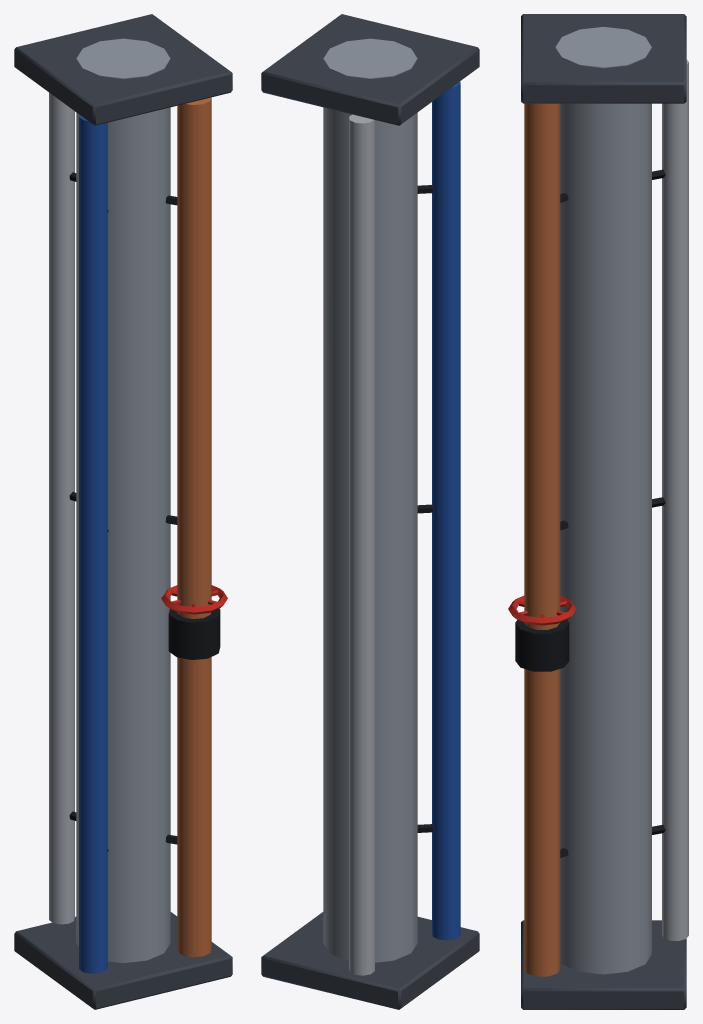
File: pillar_pipe_wrapped.glb
3 renders of one model, left to right at view 1: azimuth 30°, elevation 25°; view 2: azimuth 150°, elevation 25°; view 3: azimuth 270°, elevation 25°, orthographic. The views are drawn at different scales.
Visible parts, largest first — view 1: pillar_pipe_wrapped; view 2: pillar_pipe_wrapped; view 3: pillar_pipe_wrapped.
Part boxes in pixels (box(x1,y1,x2,y2)): pillar_pipe_wrapped: box(14, 14, 232, 1009); pillar_pipe_wrapped: box(261, 14, 479, 1009); pillar_pipe_wrapped: box(508, 14, 688, 1009).
Size of the model in its own units: 0.5506 by 3.41 by 0.6009.
